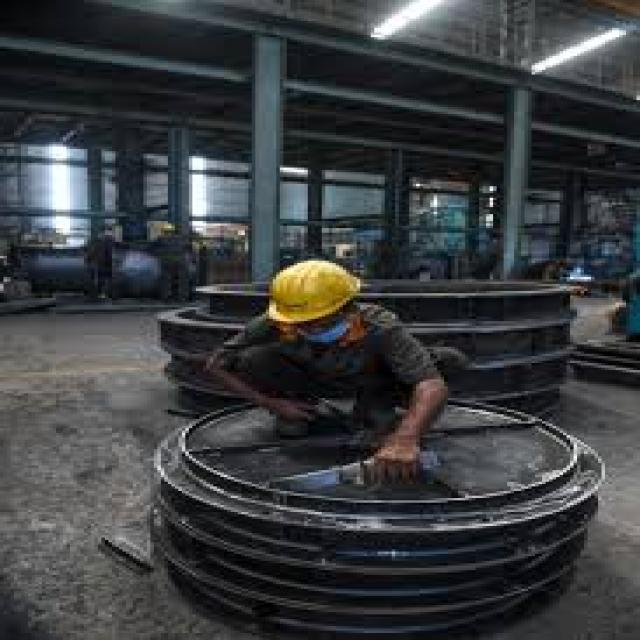Safety-Helmet: (245, 253, 378, 330)
